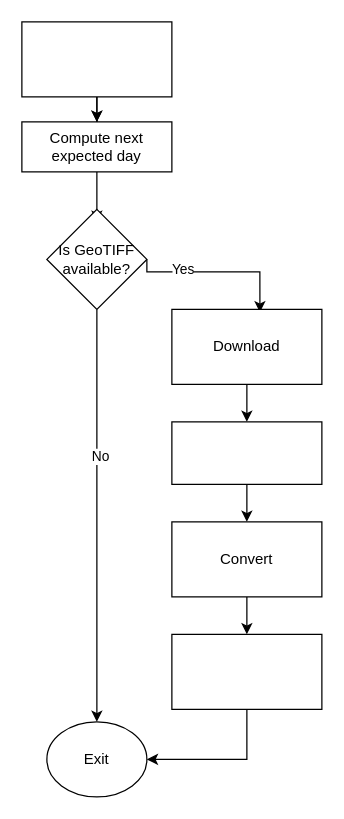
The diagram is 344 pixels wide and 819 high, and some of its shapes have lost their labels. Here are the shapes that lost their labels. From the top down, the centre of each, then its label:
At pixel 96 59: "Check latest date in Zarr".
At pixel 246 452: "Validate".
At pixel 246 671: "Append to Zarr".
